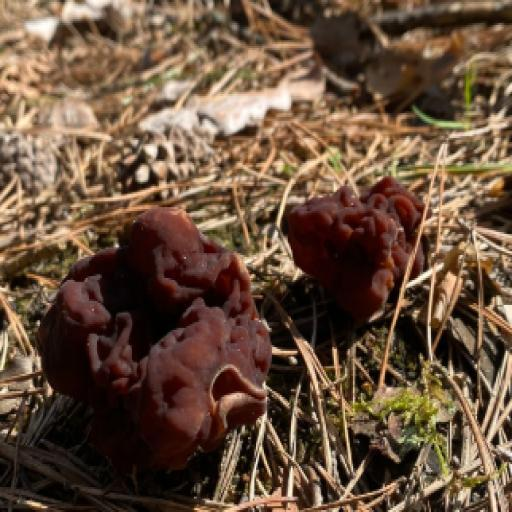mushroom: (24, 204, 305, 487), (277, 153, 453, 328)
